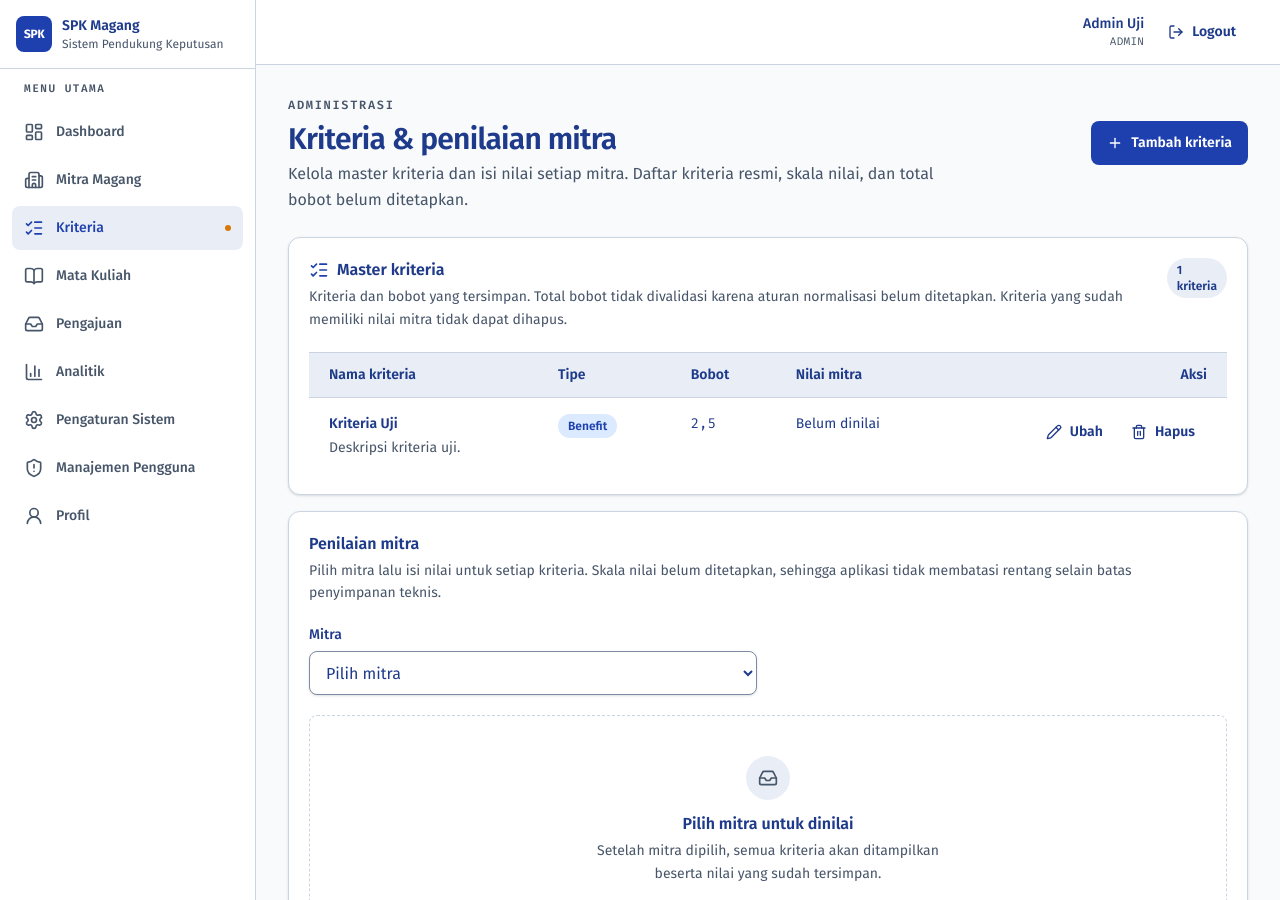
Test case: CriteriaPage › menampilkan error state ketika nilai mitra gagal dimuat
Select "PT Uji" in the dropdown labelled "Mitra" at (533, 673), box [309,651,757,695]
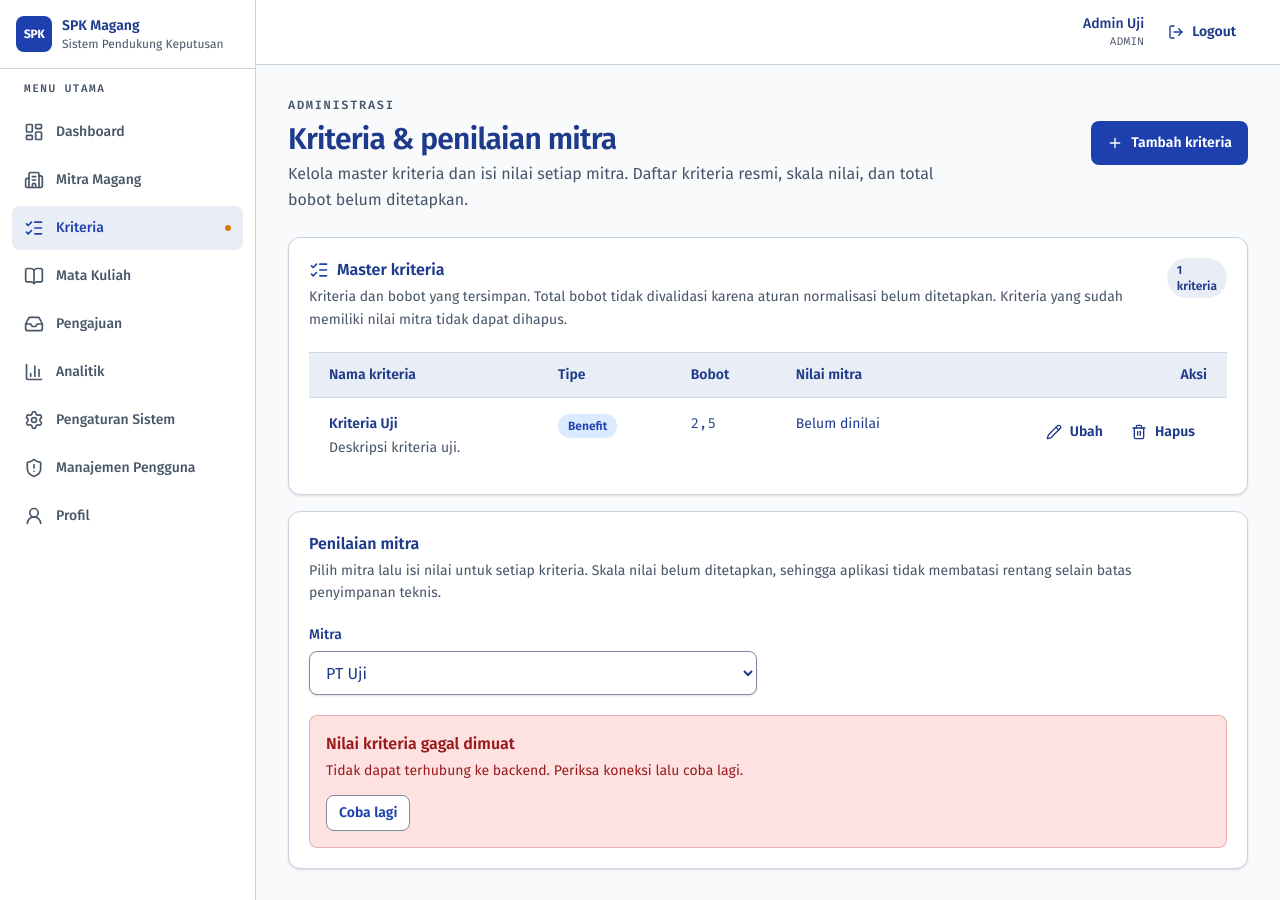
Result: the text "Nilai kriteria gagal dimuat" is shown at [326,734,515,753]
Result: the text "Tidak dapat terhubung ke backend. Periksa koneksi lalu coba lagi." is shown at [326,762,743,779]
Result: the button "Coba lagi" is shown at [326,795,410,831]
